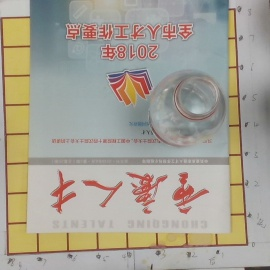bottle: (147, 70, 226, 147)
